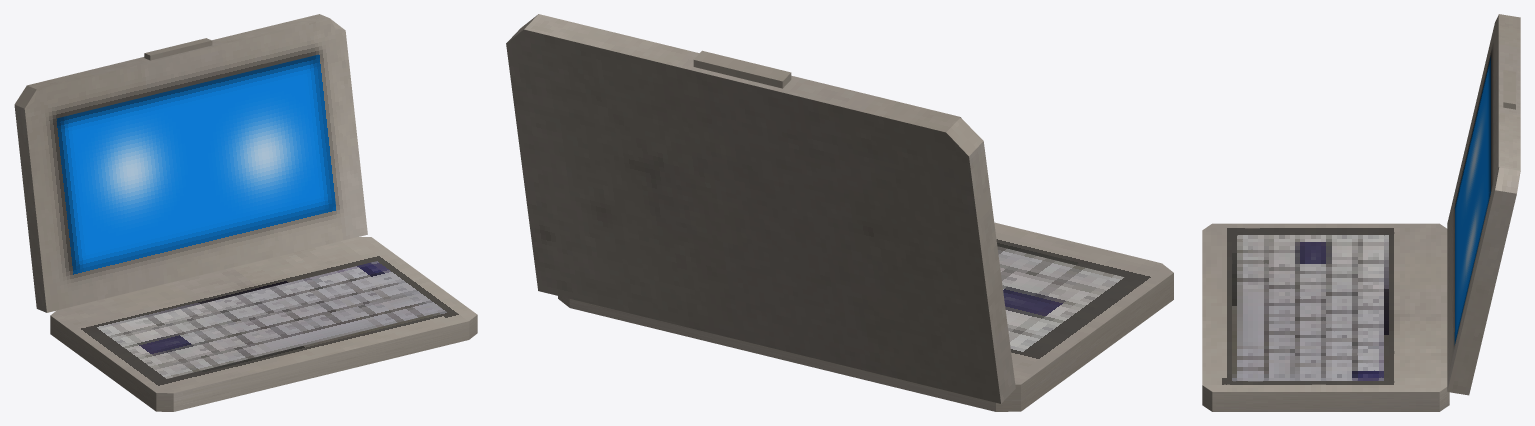
The model's file is Laptop.glb.
3 views of the same model, side by side, from view 1: azimuth 30°, elevation 25°; view 2: azimuth 150°, elevation 25°; view 3: azimuth 270°, elevation 25° (orthographic). The views are drawn at different scales.
Visible parts, largest first — view 1: Cube.001, Cube; view 2: Cube.001, Cube; view 3: Cube, Cube.001.
Part boxes in pixels (box(x1,y1,x2,y2)): Cube.001: box(14, 14, 367, 312); Cube: box(50, 237, 477, 411); Cube.001: box(506, 14, 1015, 403); Cube: box(558, 222, 1173, 411); Cube: box(1202, 223, 1449, 411); Cube.001: box(1447, 14, 1520, 395).
Size of the model in its own units: 5.01 by 3.35 by 4.
Materials: 2 (2 with a texture image).
